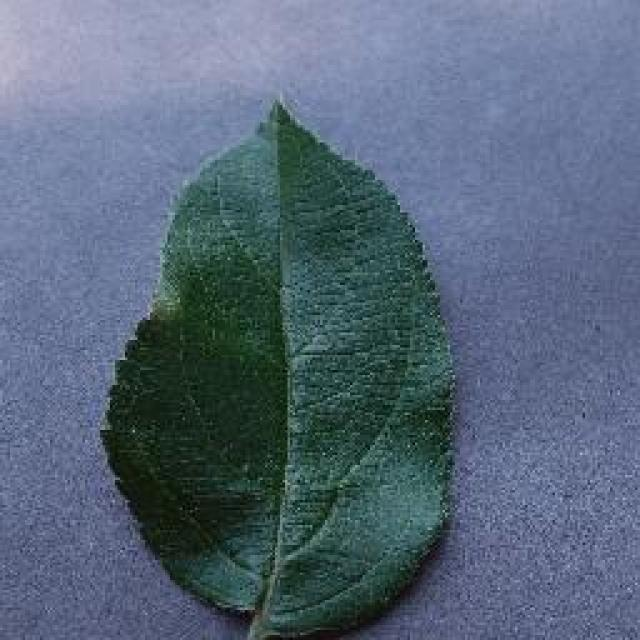apple healthy: (98, 95, 460, 637)
